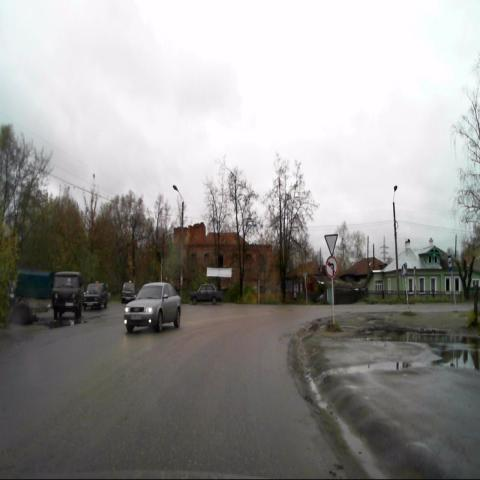3_18_2: (325, 255, 338, 279)
